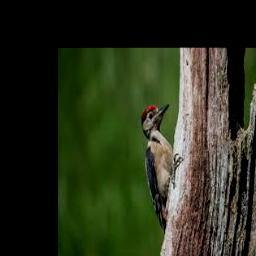Woodpecker: (141, 104, 174, 231)
